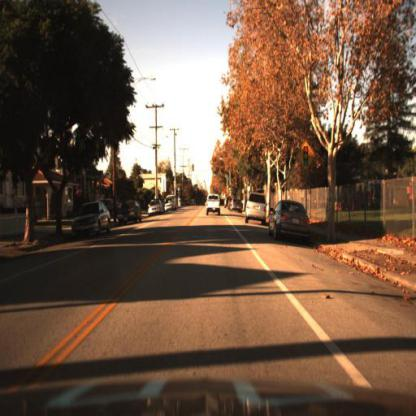car: (269, 198, 314, 244), (69, 198, 113, 242), (266, 199, 312, 238), (243, 189, 268, 228), (118, 195, 142, 231), (203, 190, 222, 218), (145, 199, 165, 217), (146, 198, 163, 217), (163, 197, 177, 216), (232, 198, 244, 216)
